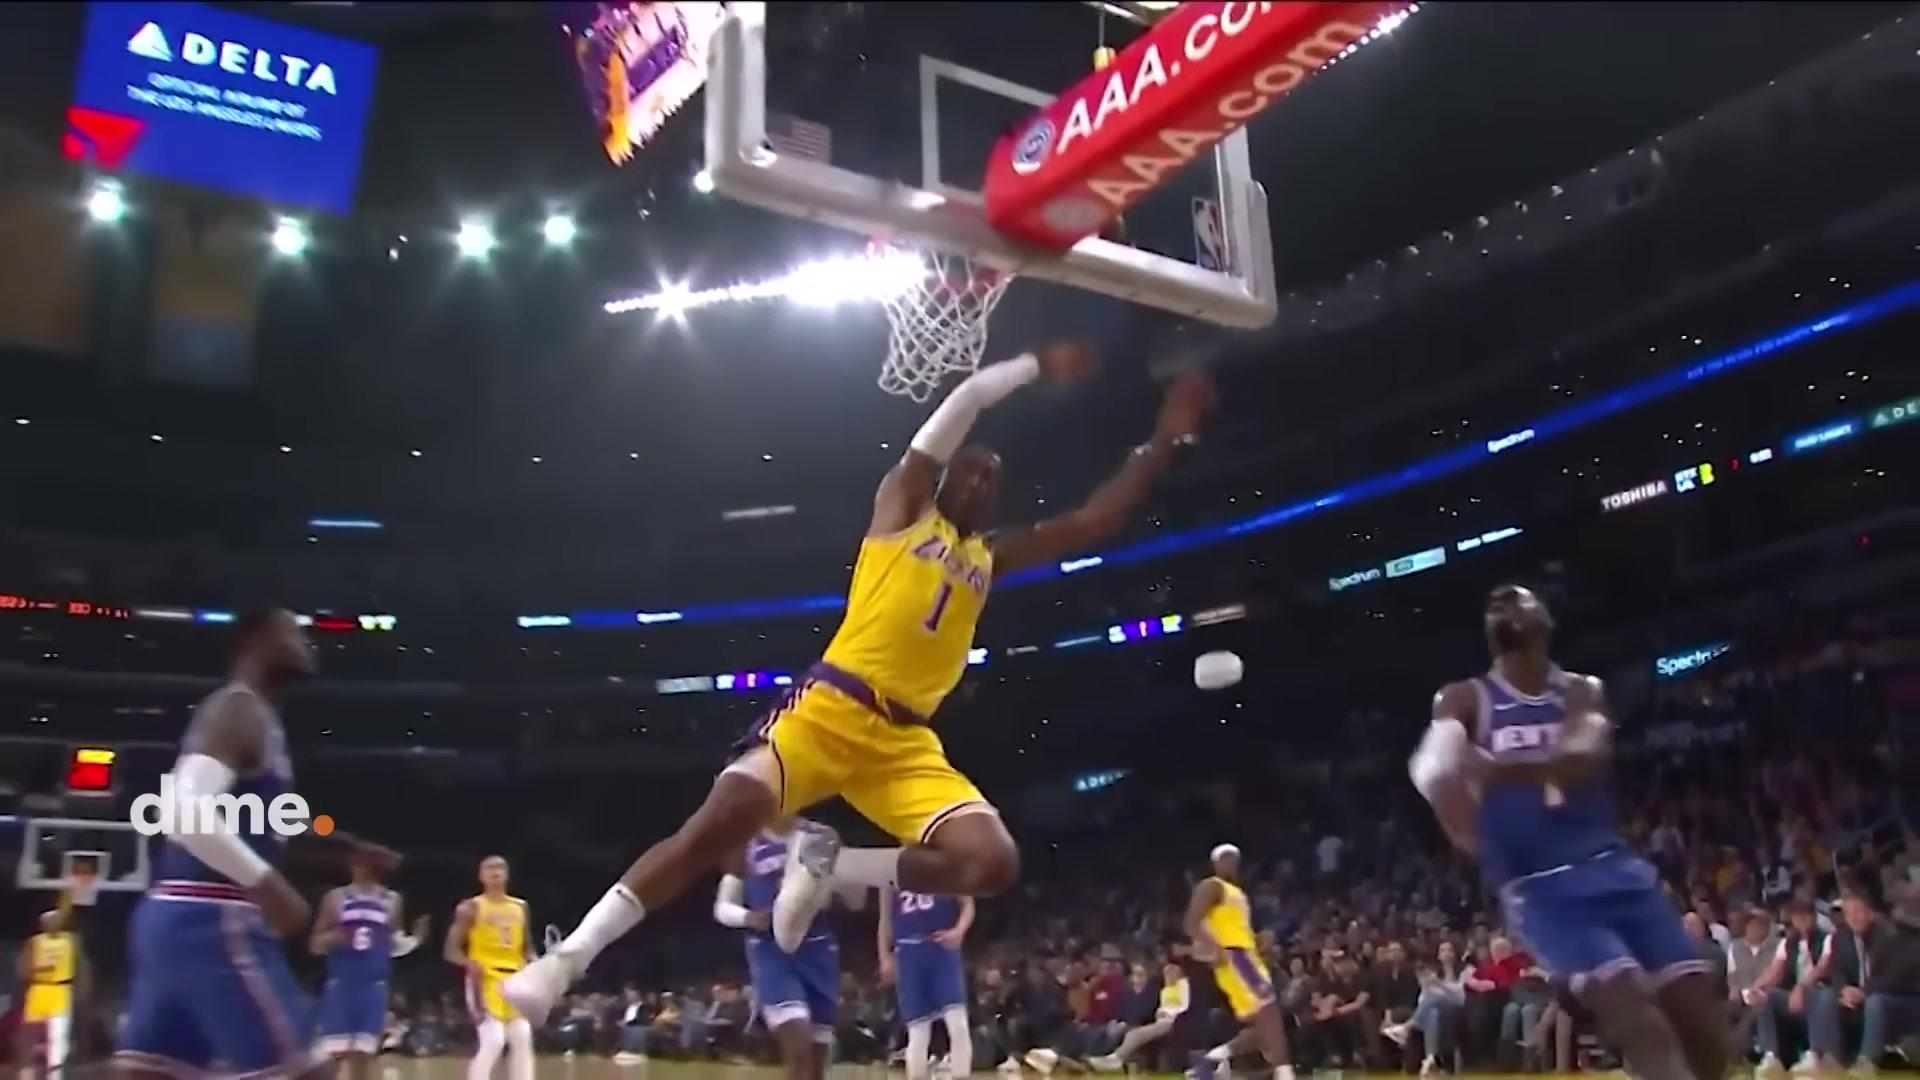no_foul: (748, 375, 1734, 1077)
